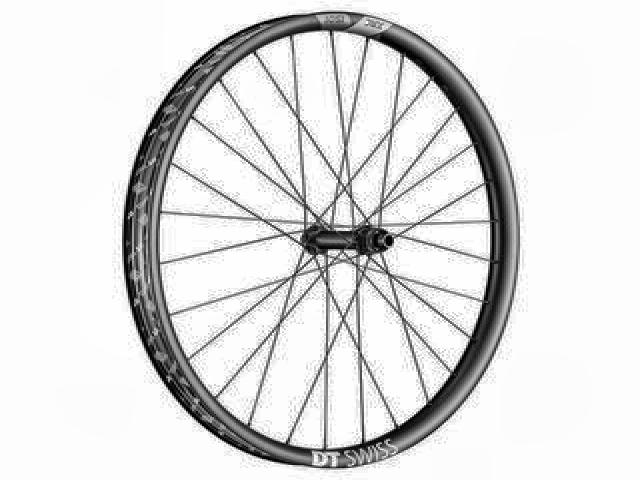wheel: (118, 10, 525, 470)
